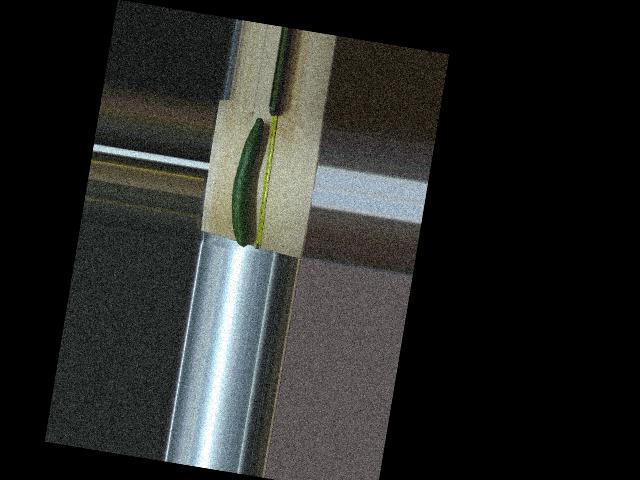cucumber: (224, 115, 270, 247)
